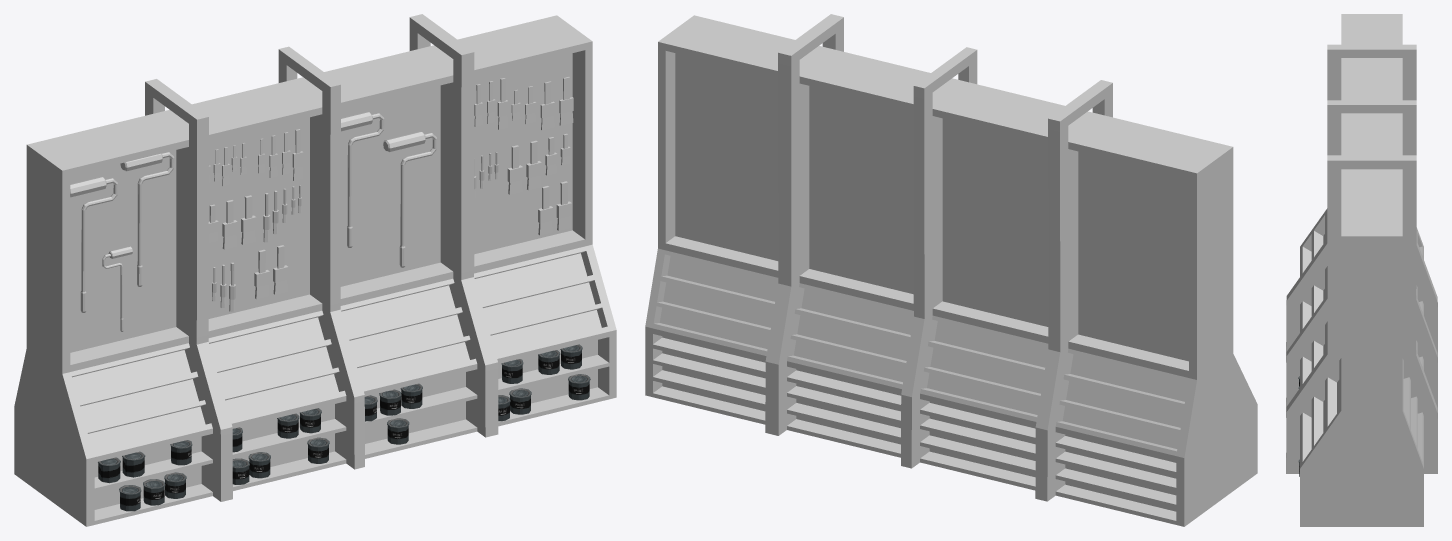
File: Shelf_Big_Paint.fbx
3 views of the same model, side by side, from view 1: azimuth 30°, elevation 25°; view 2: azimuth 150°, elevation 25°; view 3: azimuth 270°, elevation 25° (orthographic). The views are drawn at different scales.
Visible parts, largest first — view 1: Cube, Paintbucket, Cube.014, Cube.013, Cube.016, Cube.012, Cube.005; view 2: Cube; view 3: Cube.
Boxes of the visible parts, bbox=[...] form: Cube: bbox=[14, 14, 616, 526]; Paintbucket: bbox=[98, 344, 590, 511]; Cube.014: bbox=[208, 77, 573, 299]; Cube.013: bbox=[70, 152, 174, 331]; Cube.016: bbox=[208, 78, 508, 186]; Cube.012: bbox=[341, 112, 436, 267]; Cube.005: bbox=[212, 152, 498, 311]; Cube: bbox=[645, 14, 1257, 526]; Cube: bbox=[1286, 14, 1437, 526].
Bounding box in the file's own units: 1718 × 1129 × 497.
